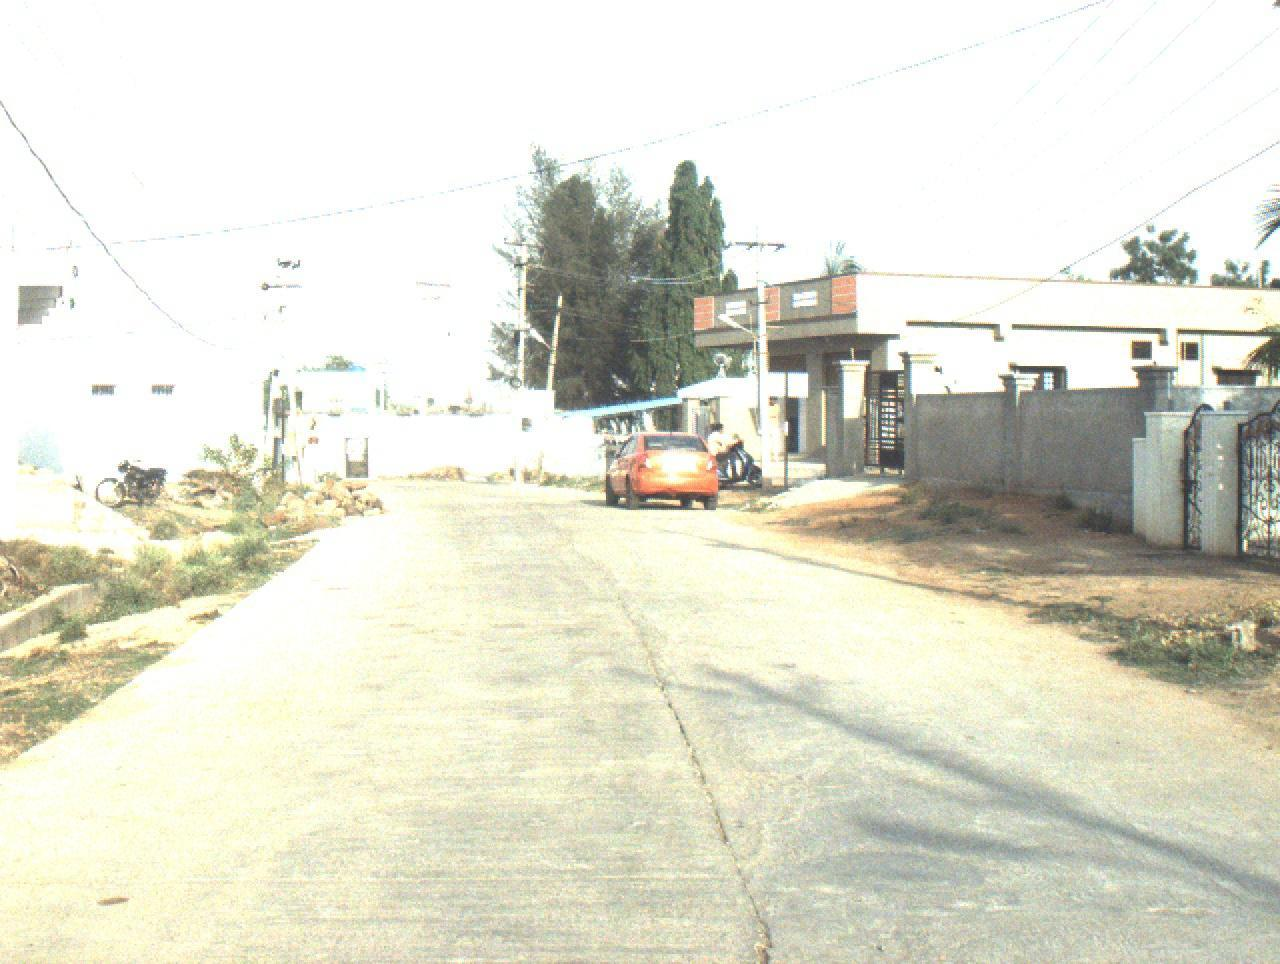off: (0, 0, 1227, 869)
